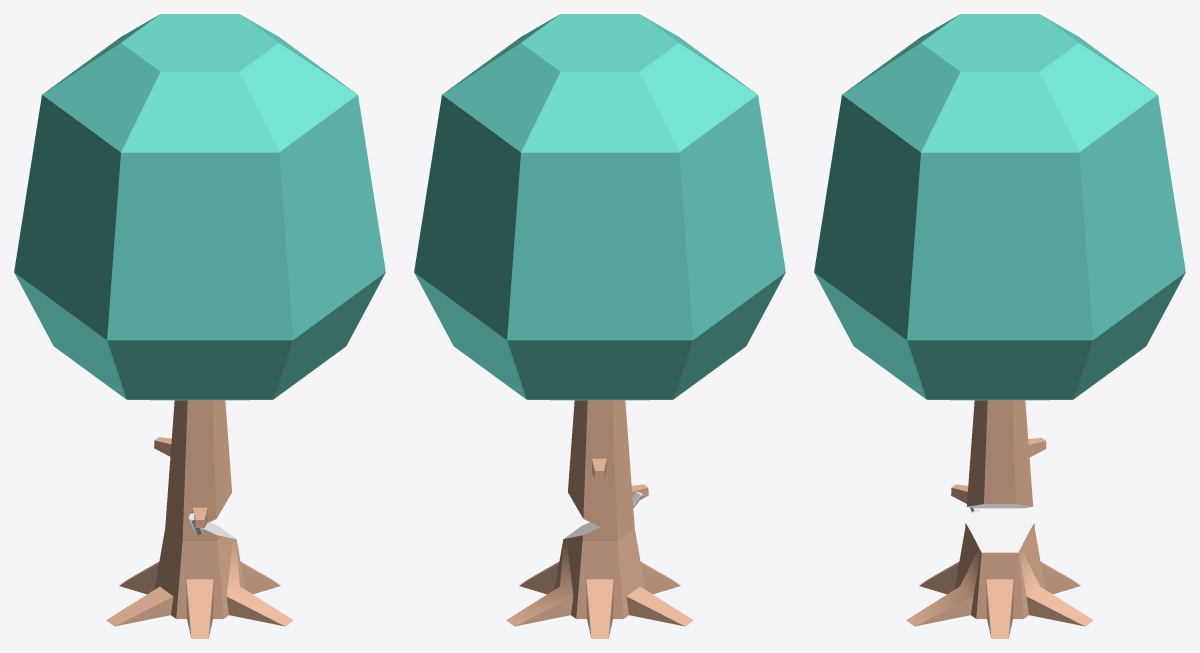
Rendered from tree_stage_75.glb.
The picture shows the model from 3 angles, left to right: view 1: azimuth 30°, elevation 25°; view 2: azimuth 150°, elevation 25°; view 3: azimuth 270°, elevation 25°; orthographic projection.
Visible parts, largest first — view 1: TreeStage75; view 2: TreeStage75; view 3: TreeStage75.
Part boxes in pixels (left/top/right/bottom): TreeStage75: left=14, top=14, right=385, bottom=638; TreeStage75: left=414, top=14, right=785, bottom=638; TreeStage75: left=814, top=14, right=1185, bottom=638.
Size of the model in its own units: 3.36 by 6.44 by 3.88.
